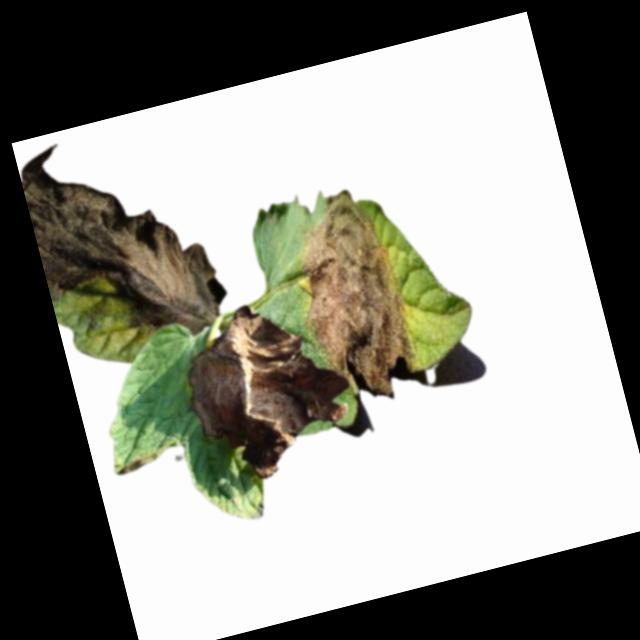Late_blight: (16, 114, 227, 364), (171, 286, 358, 487), (274, 180, 427, 414)
